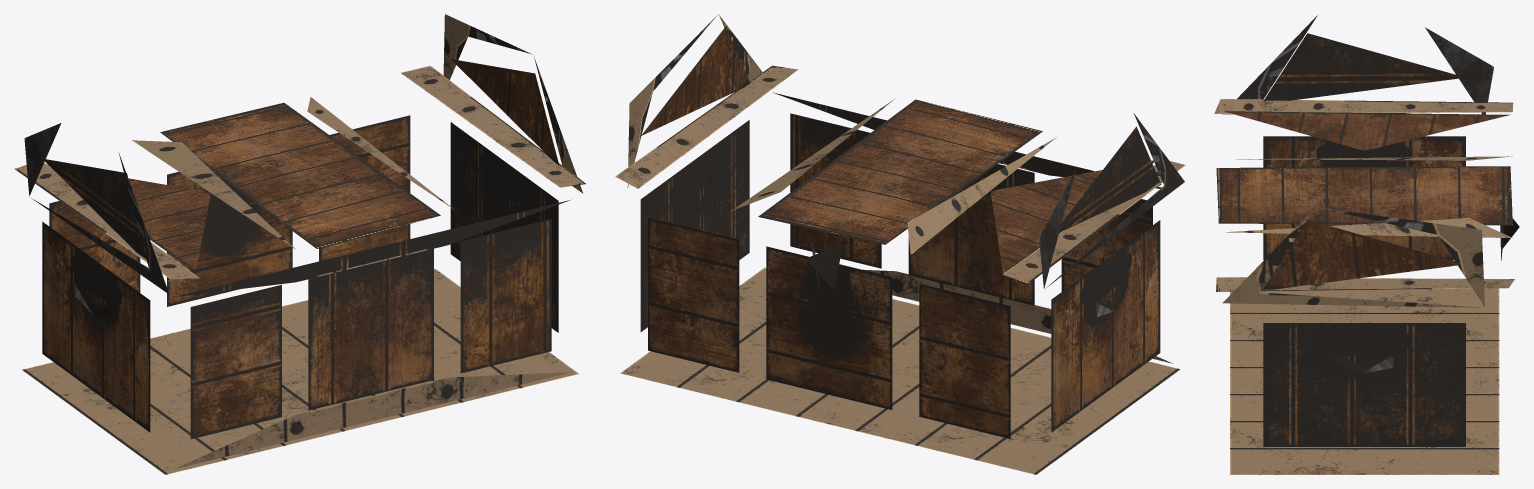
The model's file is chest_closed_lod2.glb.
3 views of the same model, side by side, from view 1: azimuth 30°, elevation 25°; view 2: azimuth 150°, elevation 25°; view 3: azimuth 270°, elevation 25° (orthographic). The views are drawn at different scales.
Visible parts, largest first — view 1: chest_closed_lod2; view 2: chest_closed_lod2; view 3: chest_closed_lod2.
Boxes of the visible parts, x1=… form: chest_closed_lod2: x1=15, y1=14, x2=585, y2=474; chest_closed_lod2: x1=615, y1=14, x2=1185, y2=474; chest_closed_lod2: x1=1214, y1=15, x2=1519, y2=474.
Size of the model in its own units: 0.4399 by 0.2884 by 0.2939.
1 material, 1 textured.
